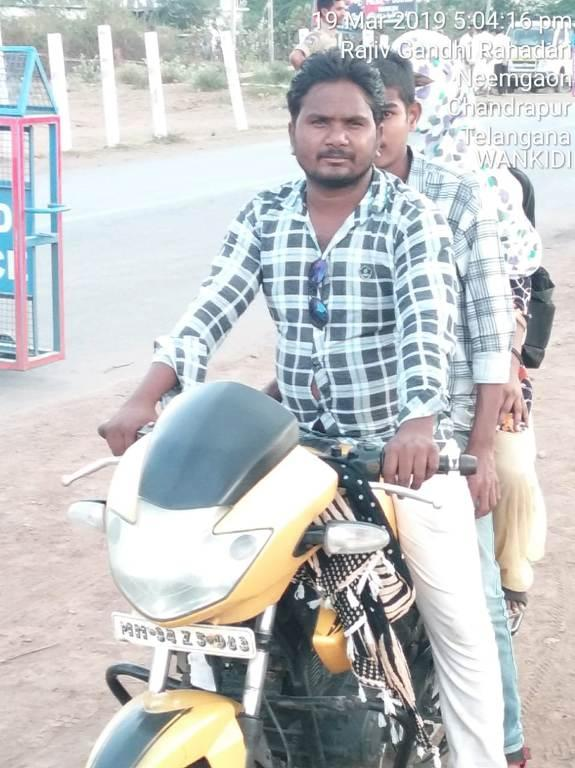plate: (104, 602, 276, 668)
